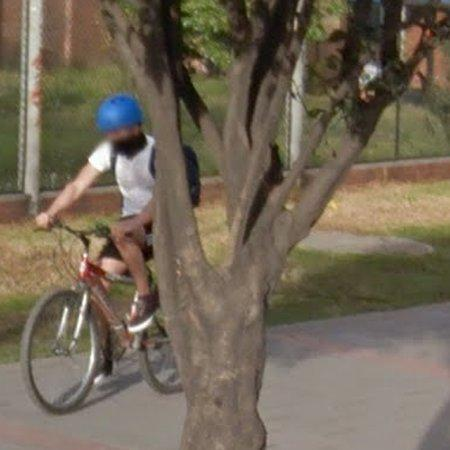bicycles: (21, 222, 182, 414)
